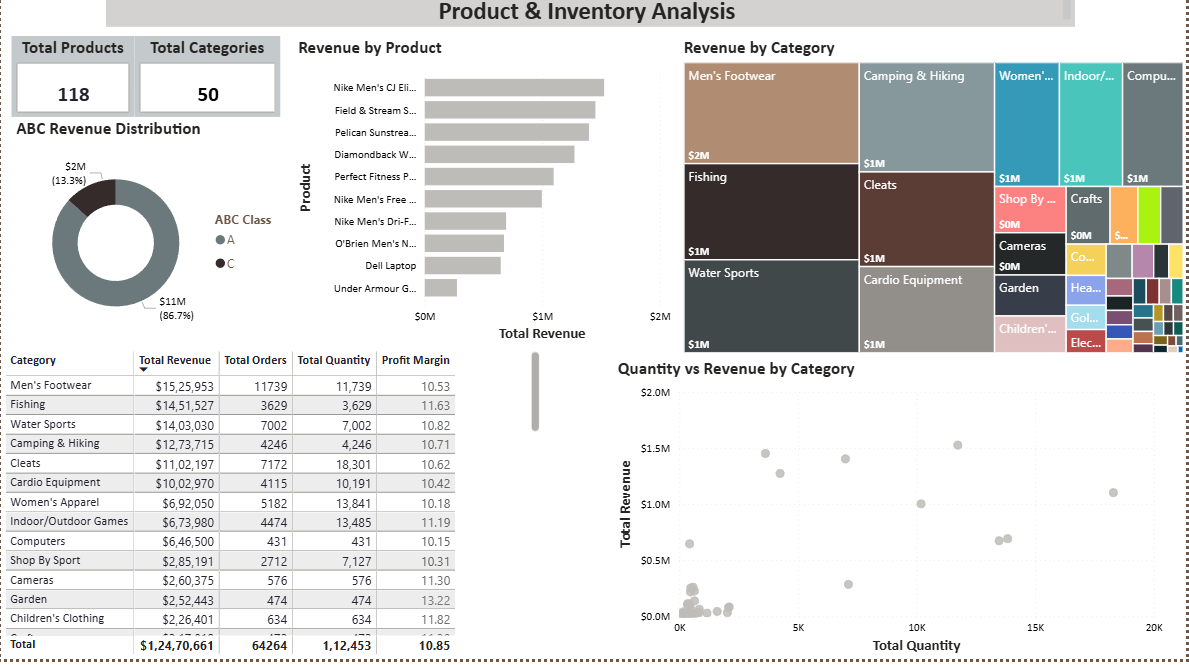

Layout of this report page (visuals, bound fields, positions):
{"tool":"powerbi","page":{"name":"Product Analysis","canvas":[1280,720],"ordinal":2},"visuals":[{"type":"textbox","box":[113.3,0,1046,38.9],"z":0},{"type":"cardVisual","title":"Total Products","fields":{"Data":["Calendar.Total Product"]},"box":[11.3,48.6,132.8,87.4],"z":1000},{"type":"cardVisual","title":"Total Categories","fields":{"Data":["Calendar.Total Category"]},"box":[144.1,48.6,157.1,87.4],"z":2000},{"type":"treemap","title":"Revenue by Category","fields":{"Group":["Orders.Category"],"Values":["DAX.Total Revenue"]},"box":[731.9,48.6,548.9,346.5],"z":3000},{"type":"clusteredBarChart","title":"Revenue by Product","fields":{"Category":["Orders.Product"],"Y":["DAX.Total Revenue"]},"box":[315.7,48.6,416.1,335.2],"z":4000},{"type":"donutChart","title":"ABC Revenue Distribution","fields":{"Y":["DAX.Total Revenue"],"Category":["Calendar.ABC Class"]},"box":[11.3,136,304.4,247.7],"z":5000},{"type":"pivotTable","fields":{"Rows":["Orders.Category"],"Values":["DAX.Total Revenue","Calendar.Total Orders","Calendar.Total Quantity","Calendar.Profit Margin"]},"box":[0,383.8,586.2,336.8],"z":6000},{"type":"scatterChart","title":"Quantity vs Revenue by Category","fields":{"X":["Calendar.Total Quantity"],"Y":["DAX.Total Revenue"],"Category":["Orders.Category"]},"box":[660,395,598.3,325],"z":7000}]}

Visuals, with their boxes in screenshot pixels (x1, y1, x2, y2), scaled from the page's 1280x720 canvas onto the 1189x665 screenshot:
textbox: BBox(105, 0, 1077, 36)
"Total Products" cardVisual: BBox(10, 45, 134, 126)
"Total Categories" cardVisual: BBox(134, 45, 280, 126)
"Revenue by Category" treemap: BBox(680, 45, 1188, 365)
"Revenue by Product" clusteredBarChart: BBox(293, 45, 680, 354)
"ABC Revenue Distribution" donutChart: BBox(10, 126, 293, 354)
pivotTable - Orders.Category x DAX.Total Revenue: BBox(0, 354, 545, 664)
"Quantity vs Revenue by Category" scatterChart: BBox(613, 365, 1169, 664)
